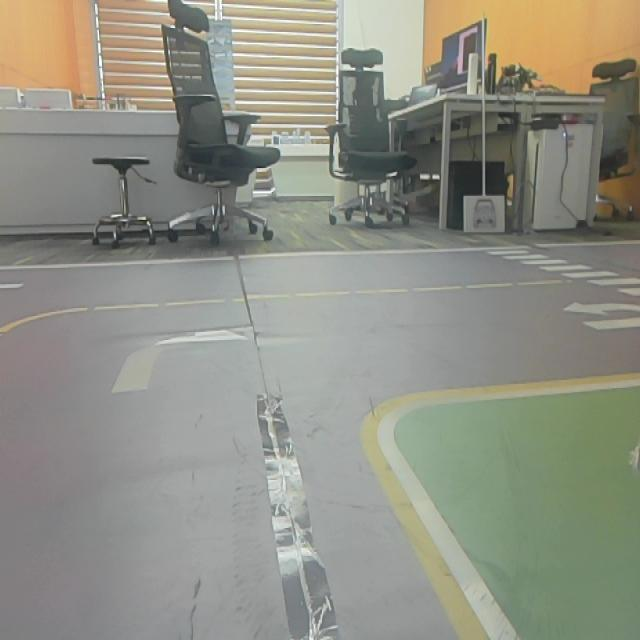left_lane: (1, 318, 24, 339)
right_lane: (359, 432, 519, 640)
